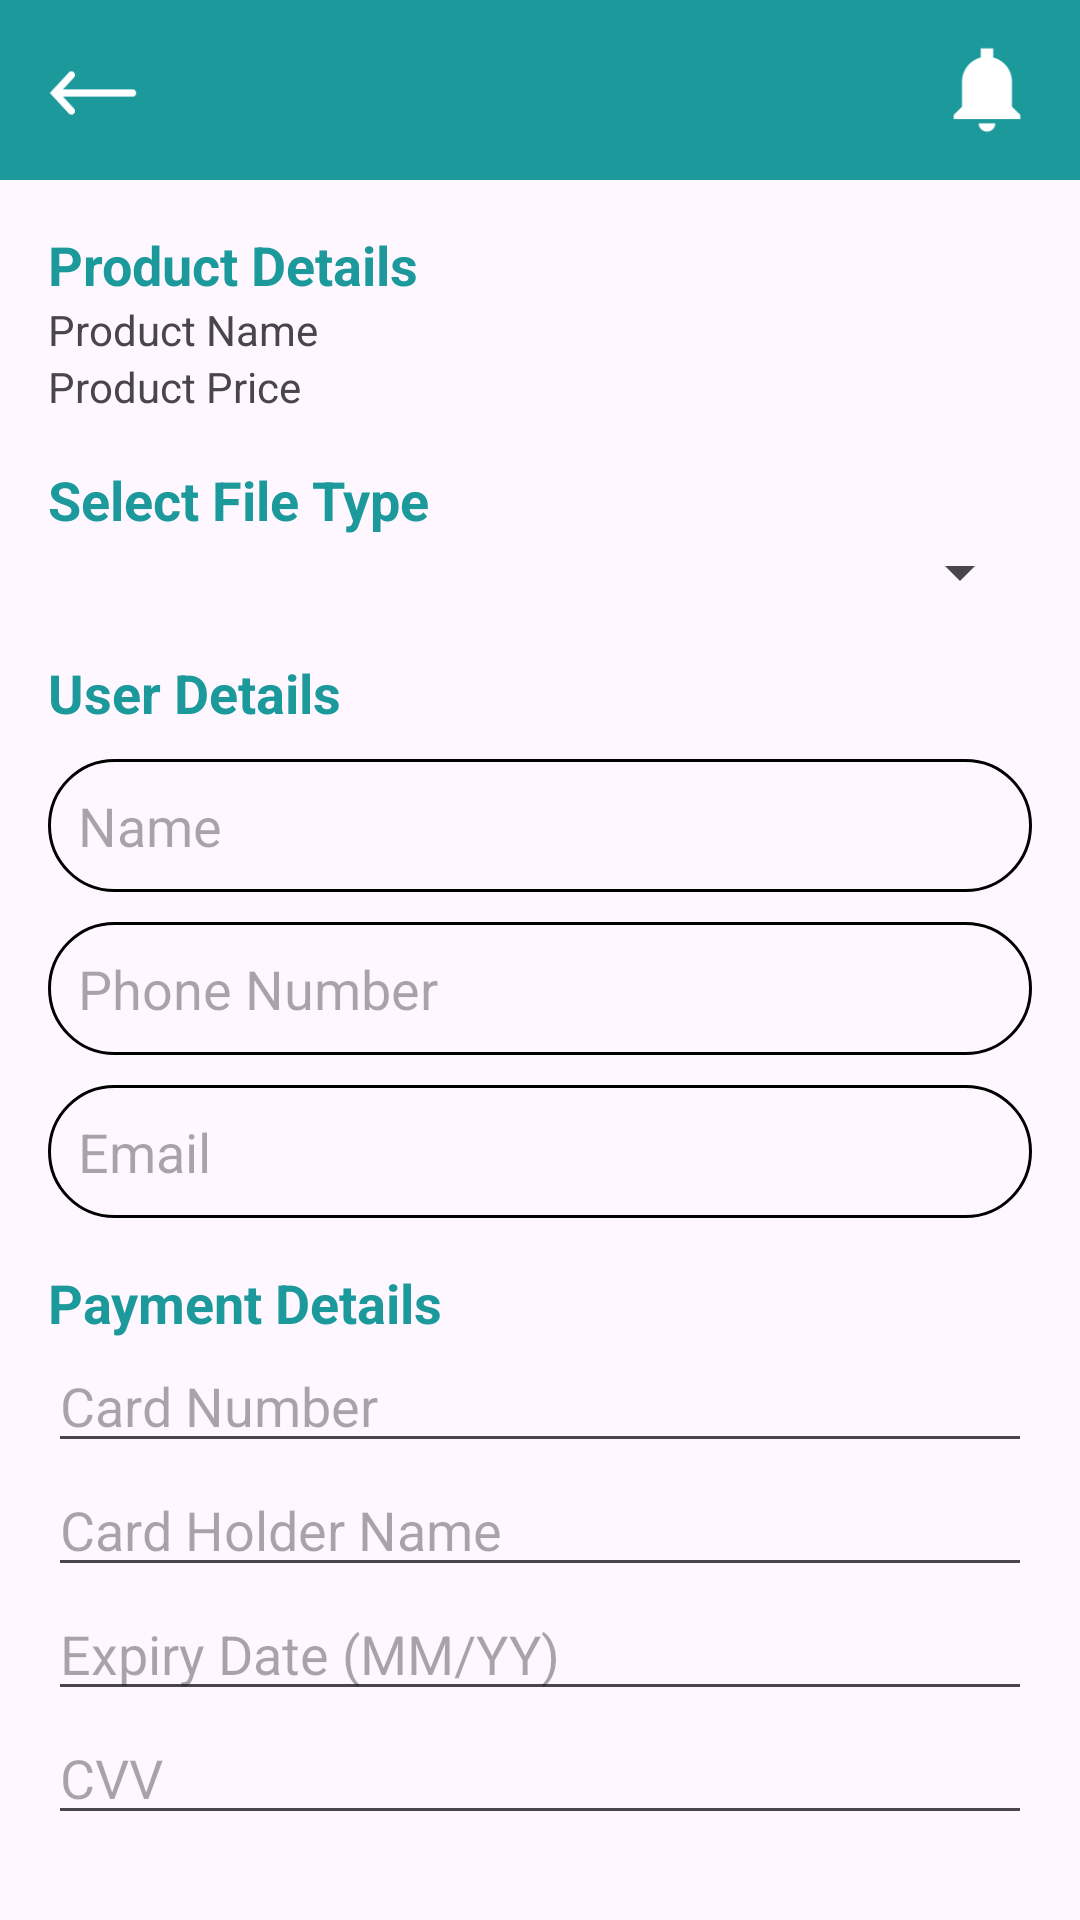

Icons on this 1080 x 1920 Android screen, each with its box as detection(x1, y1, x2, y2):
back: detection(50, 71, 137, 115)
bell: detection(953, 48, 1021, 132)
